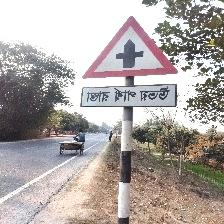Crossroad: (81, 15, 180, 108)
